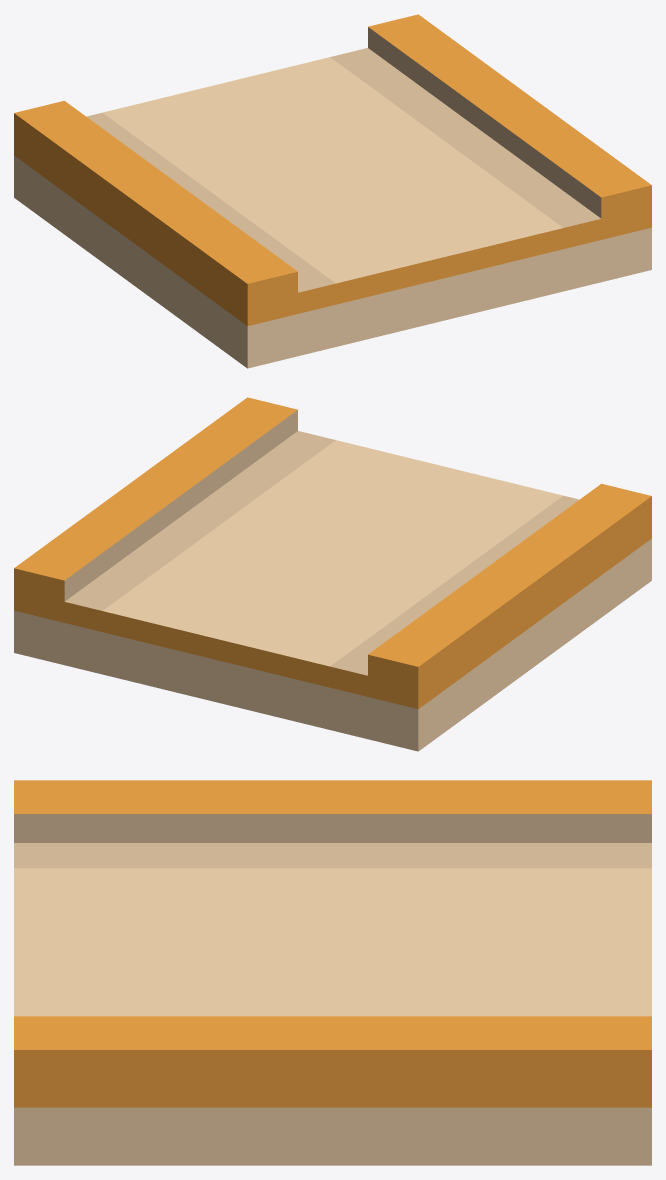
File: autumn_tile_straight.fbx
3 views of the same model, one above another, from view 1: azimuth 30°, elevation 25°; view 2: azimuth 150°, elevation 25°; view 3: azimuth 270°, elevation 25° (orthographic). The views are drawn at different scales.
Parts seen in each view (by area): view 1: tile_straight; view 2: tile_straight; view 3: tile_straight.
Part boxes in pixels (x1,y1,x2,y2): tile_straight: (14,14,651,368); tile_straight: (14,397,651,751); tile_straight: (14,780,651,1165).
Bounding box in the file's own units: 100 × 20 × 100.
